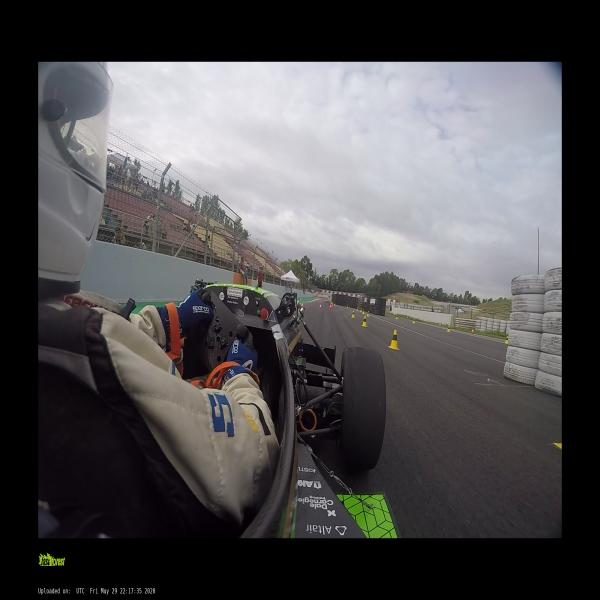orange_cone: (318, 304, 322, 310), (471, 328, 474, 334), (329, 304, 332, 310), (438, 322, 441, 328)
yellow_cone: (388, 330, 399, 350), (362, 316, 368, 327), (504, 336, 508, 344), (351, 310, 354, 318), (447, 326, 450, 332), (395, 314, 398, 320), (412, 318, 415, 323), (362, 309, 365, 314), (367, 311, 369, 317), (346, 305, 349, 308), (360, 308, 362, 312), (356, 307, 358, 311)
